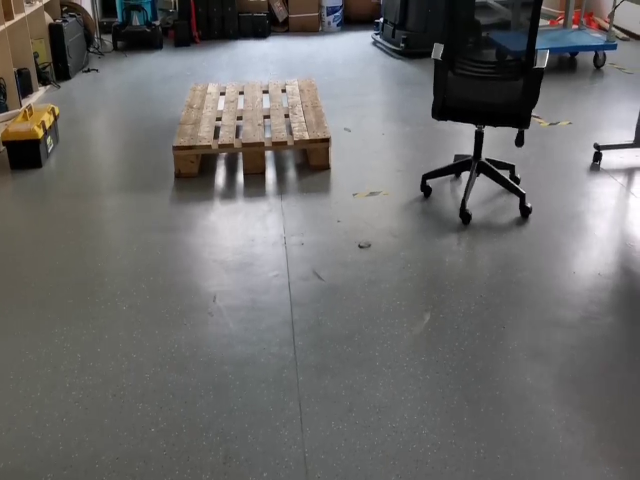block: (174, 146, 204, 177), (303, 138, 332, 168), (240, 143, 268, 174)
front: (172, 137, 330, 179)
hole pallet: (197, 154, 246, 177), (259, 150, 305, 169)
